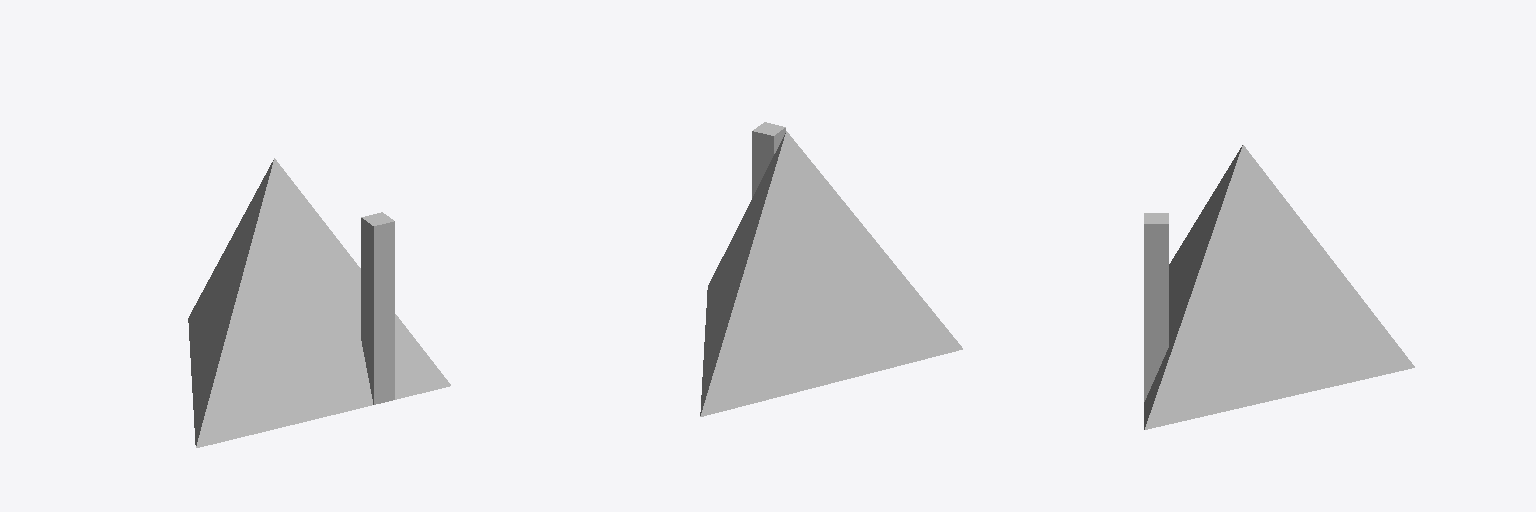
The model's file is aggressivebot.obj.
3 renders of one model, left to right at view 1: azimuth 30°, elevation 25°; view 2: azimuth 150°, elevation 25°; view 3: azimuth 270°, elevation 25°, orthographic.
Parts seen in each view (by area): view 1: aggressivebot; view 2: aggressivebot; view 3: aggressivebot.
Part boxes in pixels (x1,y1,x2,y2): aggressivebot: (188,158,450,447); aggressivebot: (700,122,962,416); aggressivebot: (1144,145,1414,429).
Size of the model in its own units: 18 by 15 by 16.5.